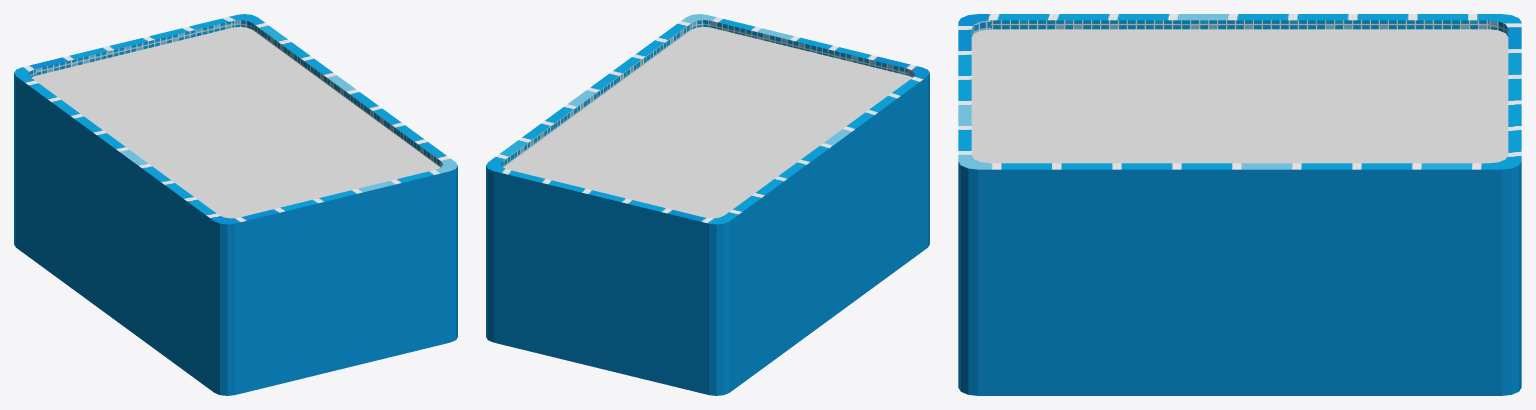
The model's file is Pool.fbx.
The picture shows the model from 3 angles, left to right: view 1: azimuth 30°, elevation 25°; view 2: azimuth 150°, elevation 25°; view 3: azimuth 270°, elevation 25°; orthographic projection. The views are drawn at different scales.
Parts seen in each view (by area): view 1: Cube.021, Cube.022; view 2: Cube.021, Cube.022; view 3: Cube.021, Cube.022.
Part boxes in pixels (x1=…): Cube.021: x1=14, y1=14, x2=457, y2=395; Cube.022: x1=31, y1=26, x2=440, y2=218; Cube.021: x1=486, y1=14, x2=929, y2=395; Cube.022: x1=503, y1=26, x2=912, y2=218; Cube.021: x1=958, y1=14, x2=1521, y2=395; Cube.022: x1=971, y1=29, x2=1508, y2=163.
Bounding box in the file's own units: 1470 × 997 × 2249.
